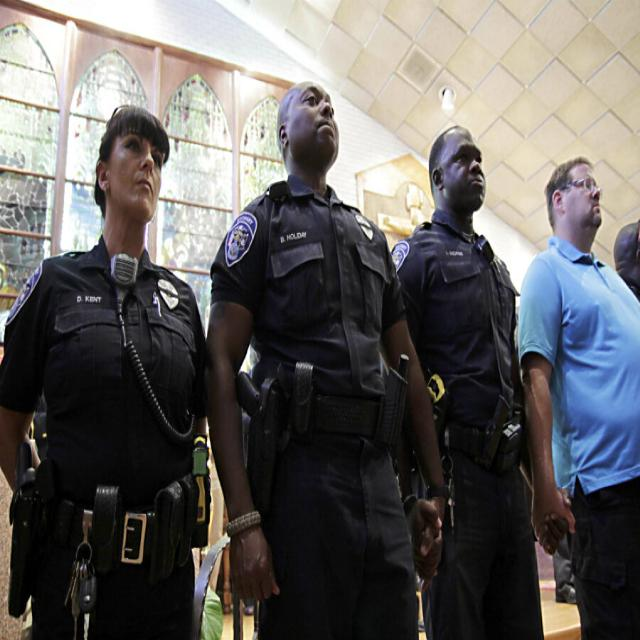police: (8, 33, 205, 640), (219, 55, 424, 623), (404, 109, 535, 640)
